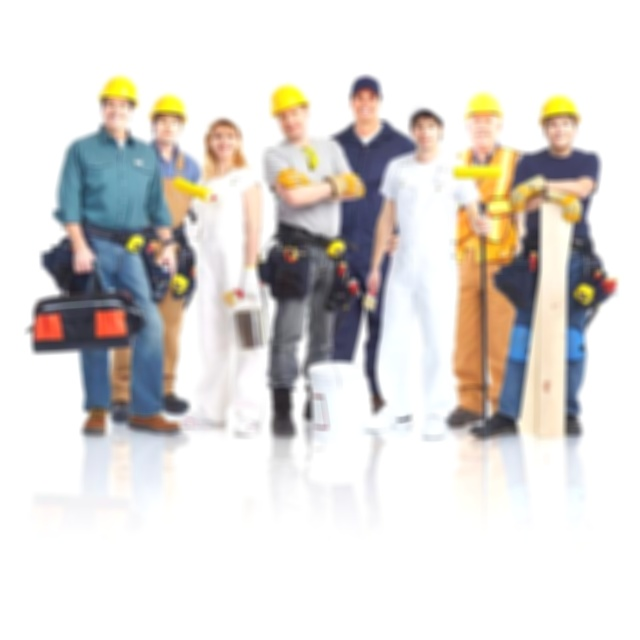Con_Casco: (268, 85, 310, 132)
Sin_Casco_Mascarrilla: (350, 76, 382, 120)
Sin_Chaleco: (385, 150, 464, 250), (263, 137, 343, 231)
